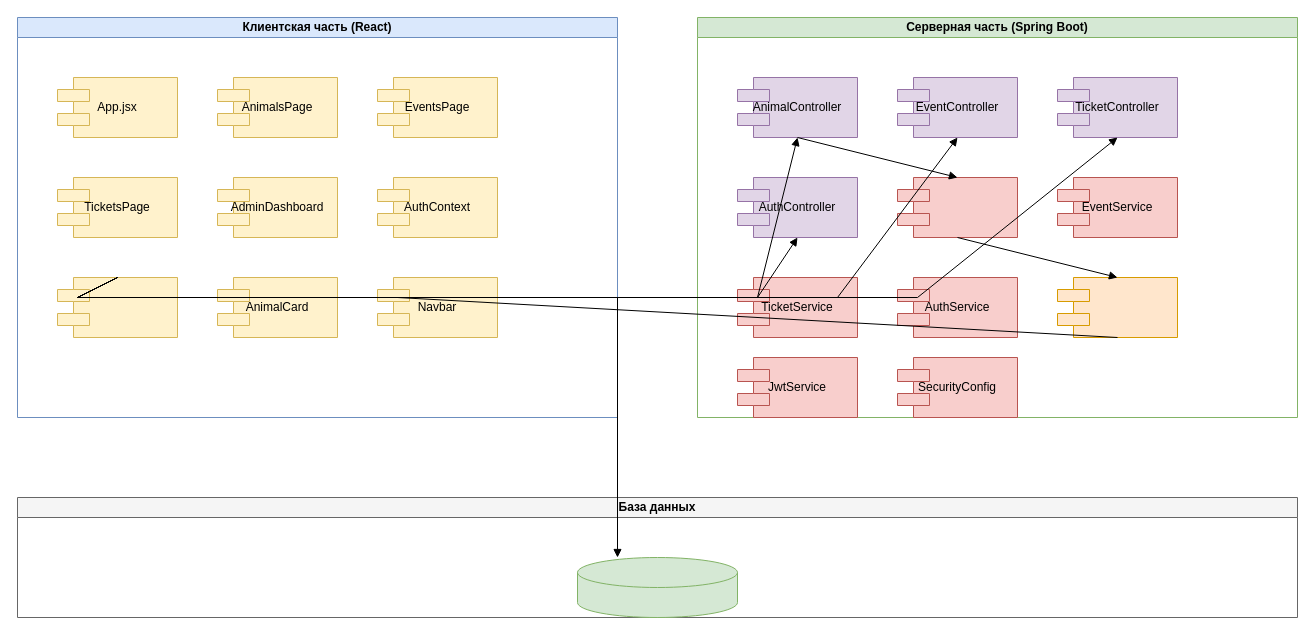
This 1315x635 diagram has some shape labels left out. Each missing label, with the centre of its shape:
"AnimalRepository" goes at point 1117,307.
"AnimalService" goes at point 957,207.
"api.js" goes at point 117,307.
"PostgreSQL" goes at point 657,587.
